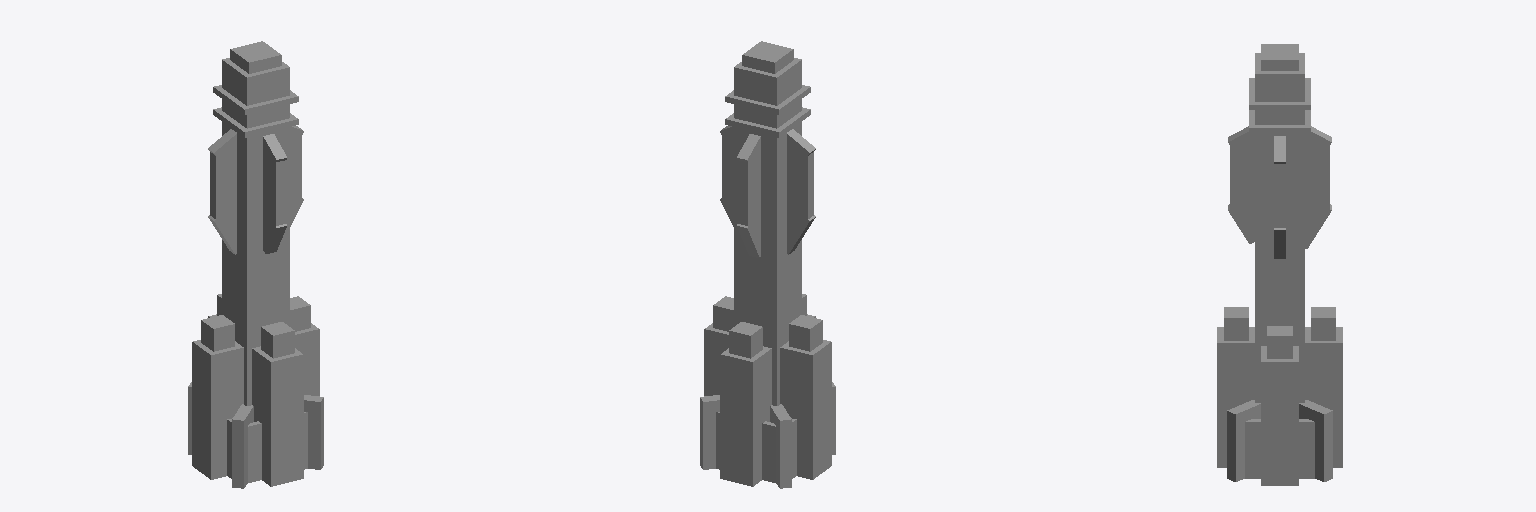
Rendered from missile_cluster.obj.
The picture shows the model from 3 angles: view 1: azimuth 30°, elevation 25°; view 2: azimuth 150°, elevation 25°; view 3: azimuth 270°, elevation 25°; orthographic projection.
Parts seen in each view (by area): view 1: Shape1, Shape7, Shape7g, Shape5, Shape8a, Shape3a, Shape5a, Shape3, Shape7e, Shape8, Shape2, Shape7f (+7 smaller); view 2: Shape1, Shape7c, Shape7g, Shape5, Shape8a, Shape3, Shape5a, Shape3a, Shape7e, Shape8, Shape2a, Shape7f (+6 smaller); view 3: Shape1, Shape7e, Shape7c, Shape7, Shape5a, Shape2b, Shape8a, Shape3, Shape3a, Shape8, Shape7d, Shape7a (+8 smaller).
Boxes of the visible parts, x1,y1,x2,y2 form: Shape1: [222, 99, 289, 405]; Shape7: [252, 346, 303, 486]; Shape7g: [192, 340, 243, 479]; Shape5: [210, 135, 301, 222]; Shape8a: [222, 58, 289, 105]; Shape3a: [188, 382, 323, 469]; Shape5a: [263, 153, 285, 225]; Shape3: [232, 404, 253, 488]; Shape7e: [295, 323, 319, 395]; Shape8: [230, 41, 281, 73]; Shape2: [248, 412, 307, 482]; Shape7f: [201, 315, 234, 351]; Shape1: [734, 99, 801, 405]; Shape7c: [720, 346, 771, 486]; Shape7g: [780, 340, 831, 479]; Shape5: [722, 135, 813, 222]; Shape8a: [734, 58, 801, 105]; Shape3: [700, 382, 835, 469]; Shape5a: [738, 153, 760, 226]; Shape3a: [770, 404, 791, 488]; Shape7e: [704, 323, 728, 395]; Shape8: [742, 41, 793, 73]; Shape2a: [716, 412, 775, 482]; Shape7f: [789, 315, 822, 351]; Shape1: [1255, 110, 1304, 402]; Shape7e: [1261, 346, 1298, 485]; Shape7c: [1305, 327, 1342, 467]; Shape7: [1217, 327, 1254, 467]; Shape5a: [1230, 145, 1329, 212]; Shape2b: [1245, 419, 1314, 478]; Shape8a: [1255, 53, 1304, 101]; Shape3: [1299, 400, 1332, 481]; Shape3a: [1227, 400, 1260, 481]; Shape8: [1261, 44, 1298, 70]; Shape7d: [1267, 326, 1292, 358]; Shape7a: [1224, 307, 1248, 340].
Size of the model in its own units: 1.25 by 4.5 by 1.25.